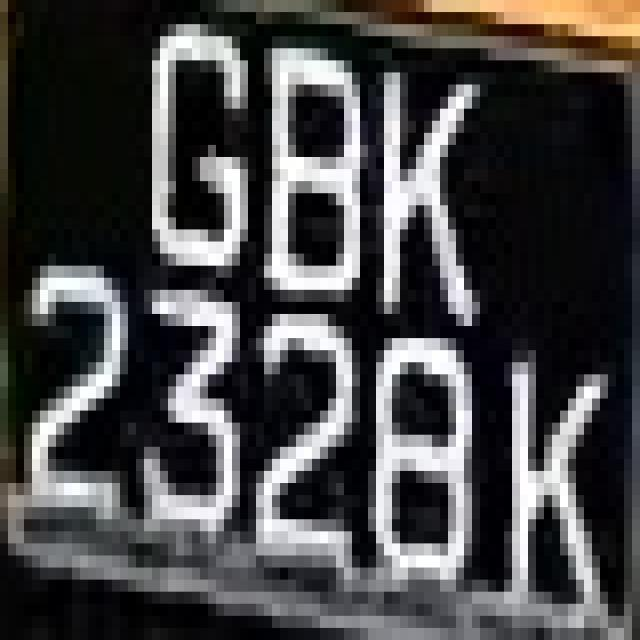2: (32, 218, 152, 568), (256, 254, 368, 604)
3: (120, 278, 272, 568)
8: (360, 326, 488, 604)
B: (240, 12, 376, 338)
G: (120, 0, 248, 302)
K: (496, 302, 632, 640), (368, 24, 472, 374)
